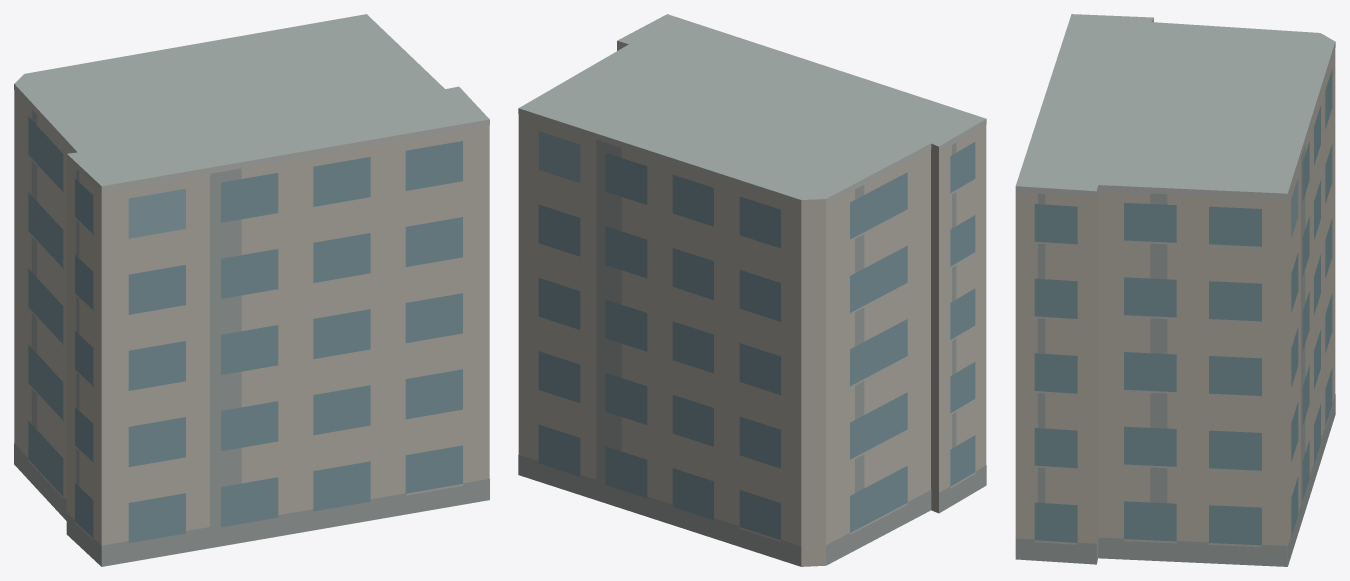
File: survey-upis-32566409.glb
3 renders of one model, left to right at view 1: azimuth 30°, elevation 25°; view 2: azimuth 150°, elevation 25°; view 3: azimuth 270°, elevation 25°, orthographic. The views are drawn at different scales.
Visible parts, largest first — view 1: survey-upis-32566409.tmp; view 2: survey-upis-32566409.tmp; view 3: survey-upis-32566409.tmp.
Boxes of the visible parts, x1,y1,x2,y2 form: survey-upis-32566409.tmp: (14, 14, 489, 566); survey-upis-32566409.tmp: (518, 14, 986, 566); survey-upis-32566409.tmp: (1015, 14, 1335, 566).
Size of the model in its own units: 15.28 by 14.8 by 11.5.
